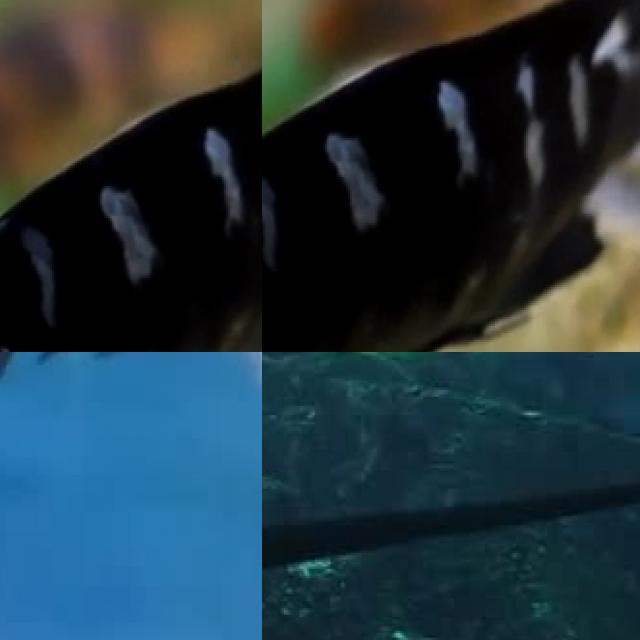fish: (0, 0, 262, 352), (296, 0, 640, 55)
